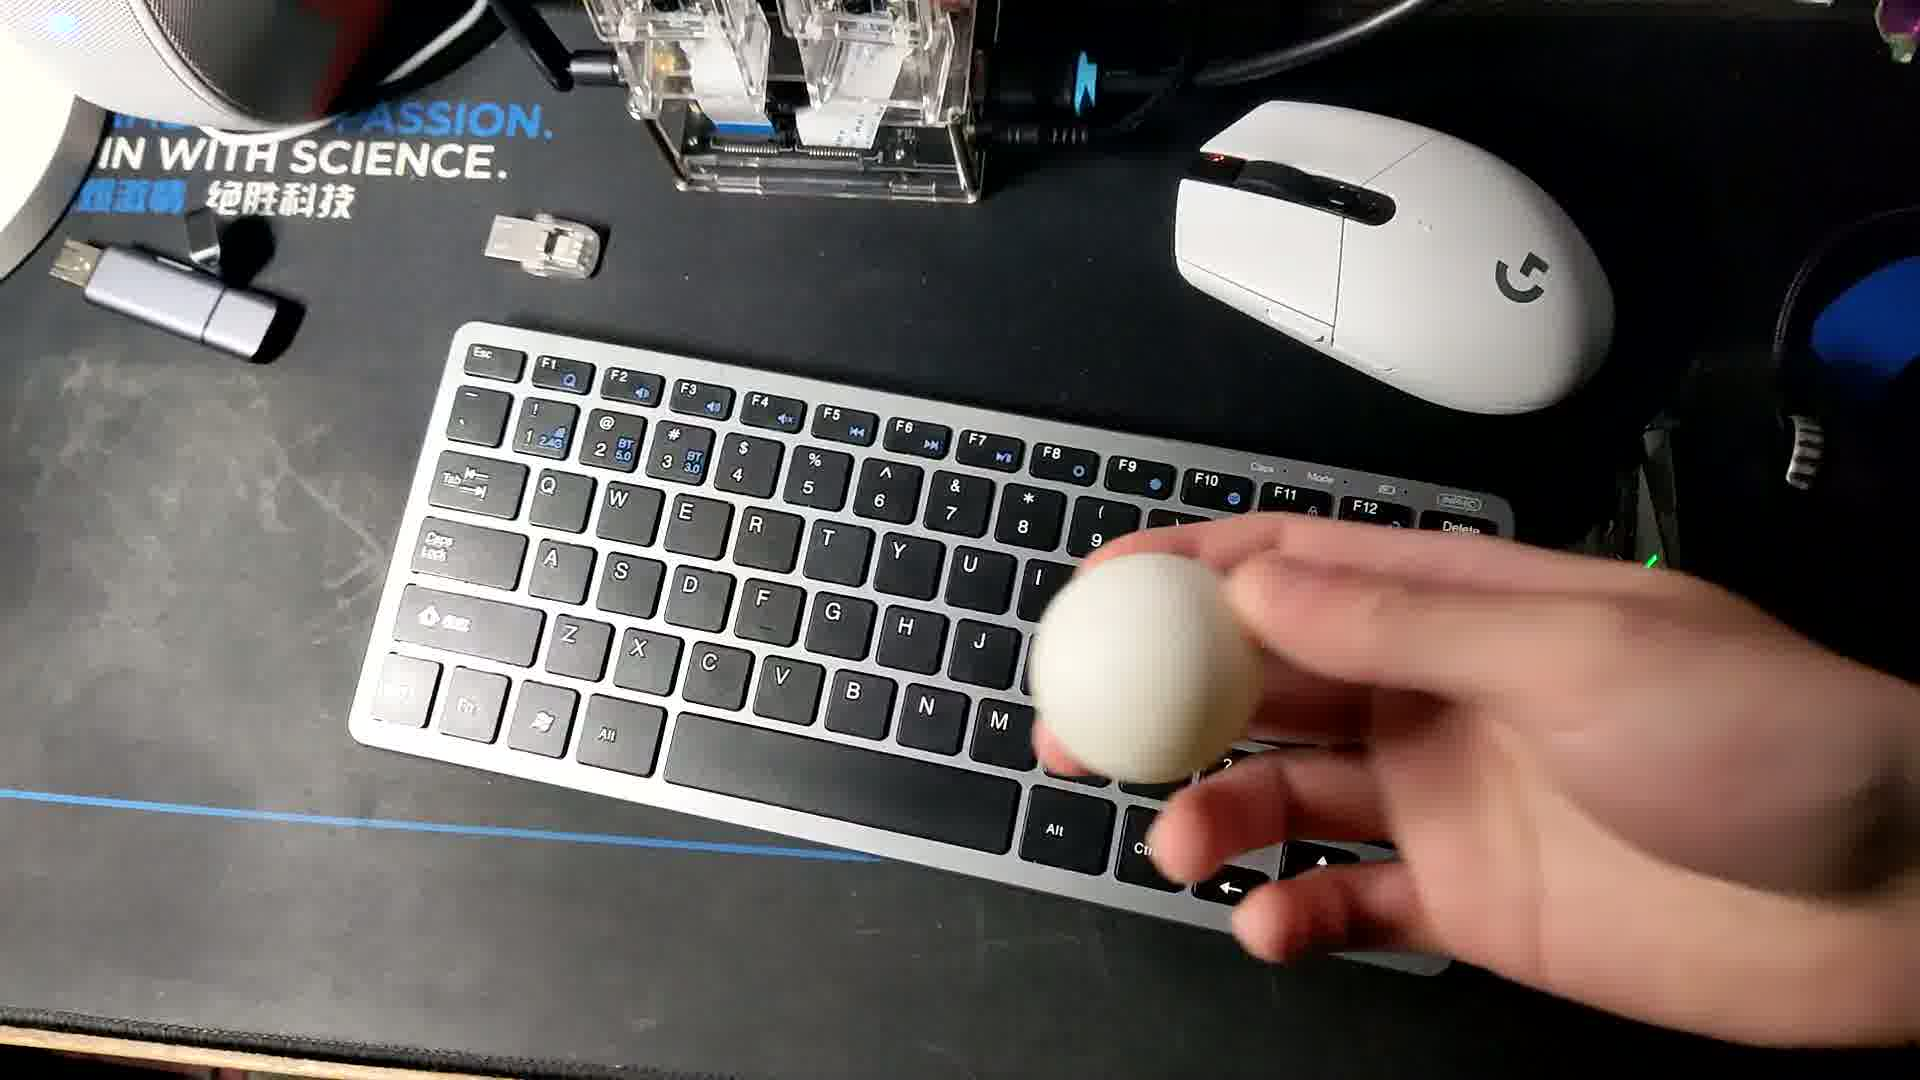Ball: (1029, 550, 1255, 779)
